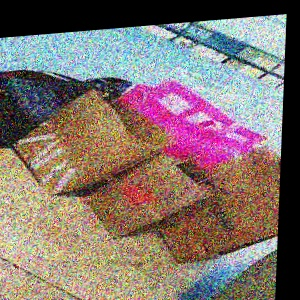bershka: (74, 104, 283, 300)
zara: (79, 71, 106, 156)
